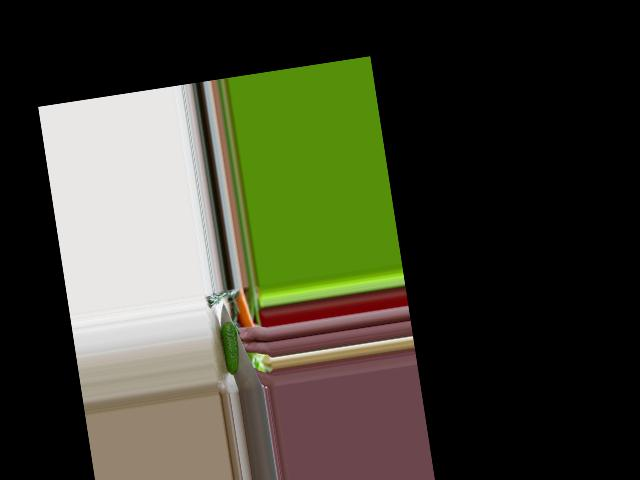cucumber: (218, 320, 242, 375)
